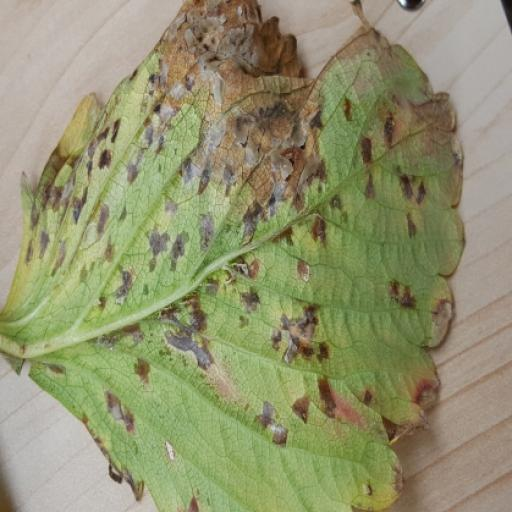Angular Leafspot: (0, 0, 466, 511)
